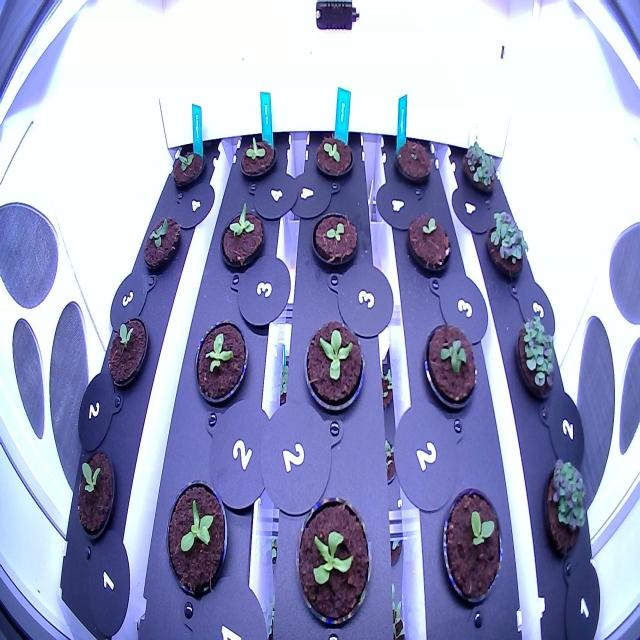germination: (436, 481, 508, 611), (67, 439, 121, 548), (101, 299, 151, 401), (308, 202, 364, 281), (402, 202, 454, 279), (141, 203, 183, 286), (310, 120, 356, 190), (170, 138, 208, 196)
pod: (391, 131, 436, 192)
young: (292, 490, 371, 630), (161, 470, 233, 608), (298, 308, 368, 422), (419, 314, 483, 424), (191, 302, 253, 414), (217, 190, 267, 278), (236, 124, 281, 190)
